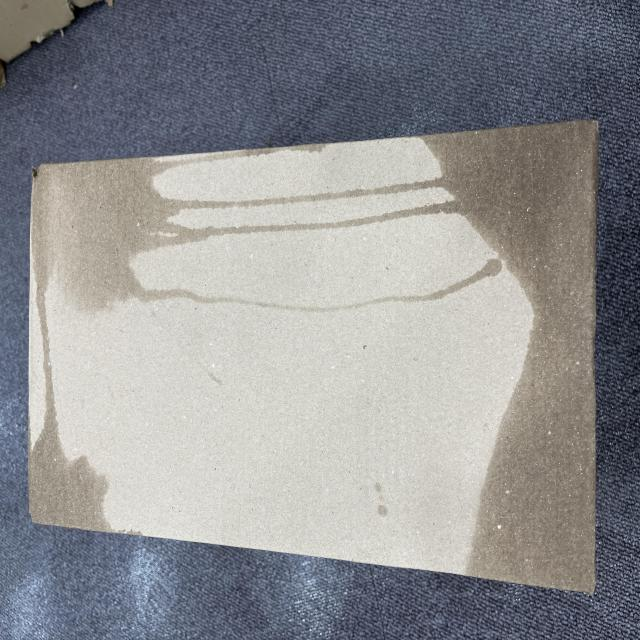wet: (47, 37, 394, 640)
